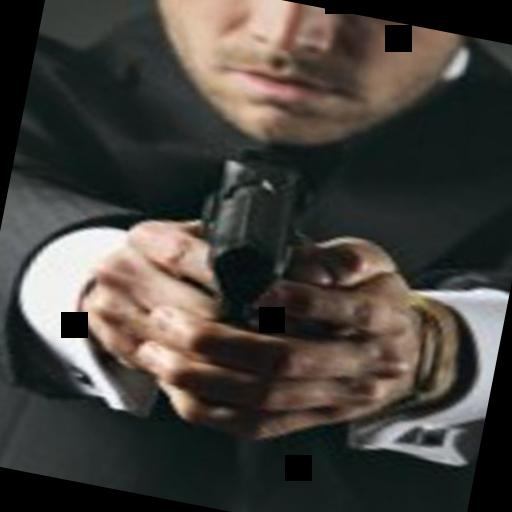Handgun: (164, 130, 328, 357)
